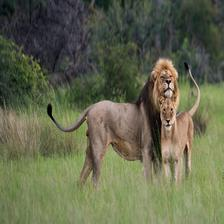Lion: (40, 58, 200, 182), (152, 97, 201, 183)
